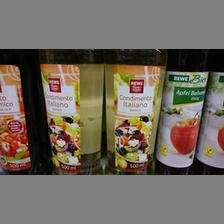Essig: (100, 49, 160, 173), (41, 56, 104, 172), (154, 50, 206, 172), (0, 54, 44, 174)
